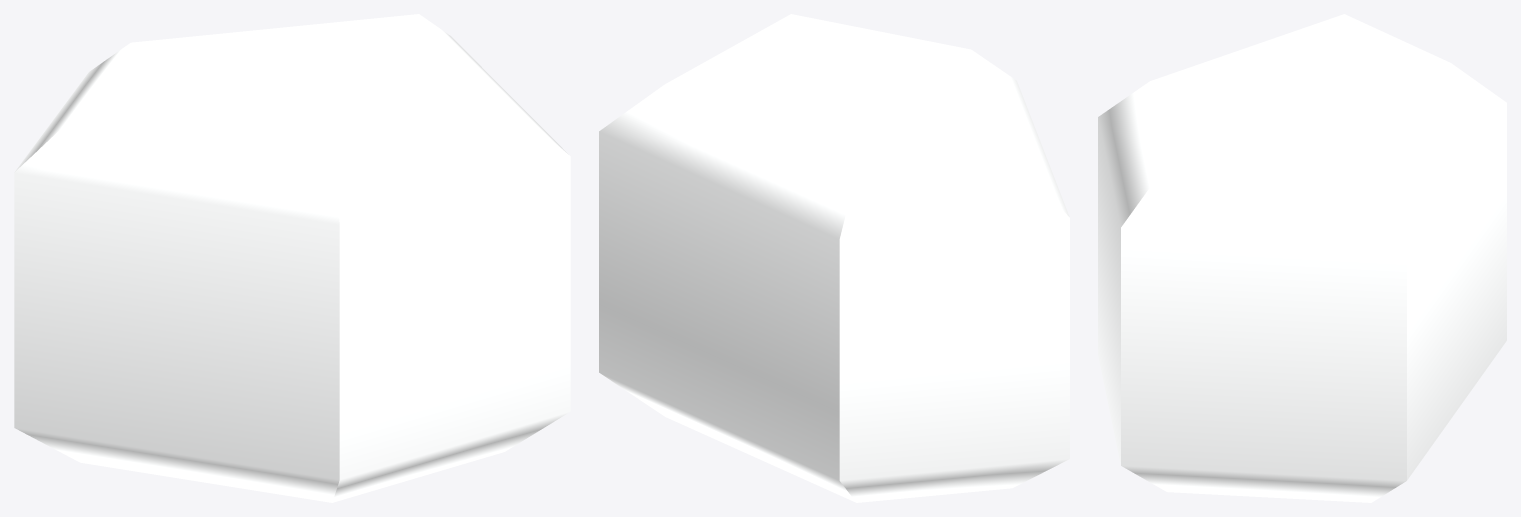
The model's file is ice_floe_small_009.glb.
3 renders of one model, left to right at view 1: azimuth 30°, elevation 25°; view 2: azimuth 150°, elevation 25°; view 3: azimuth 270°, elevation 25°, orthographic. The views are drawn at different scales.
Parts seen in each view (by area): view 1: ice_floe_small_009; view 2: ice_floe_small_009; view 3: ice_floe_small_009.
Part boxes in pixels (x1,y1,x2,y2): ice_floe_small_009: (14, 14, 570, 502); ice_floe_small_009: (599, 14, 1069, 502); ice_floe_small_009: (1098, 14, 1506, 502).
Bounding box in the file's own units: 0.9678 × 0.6962 × 0.786.
1 material, 1 textured.
